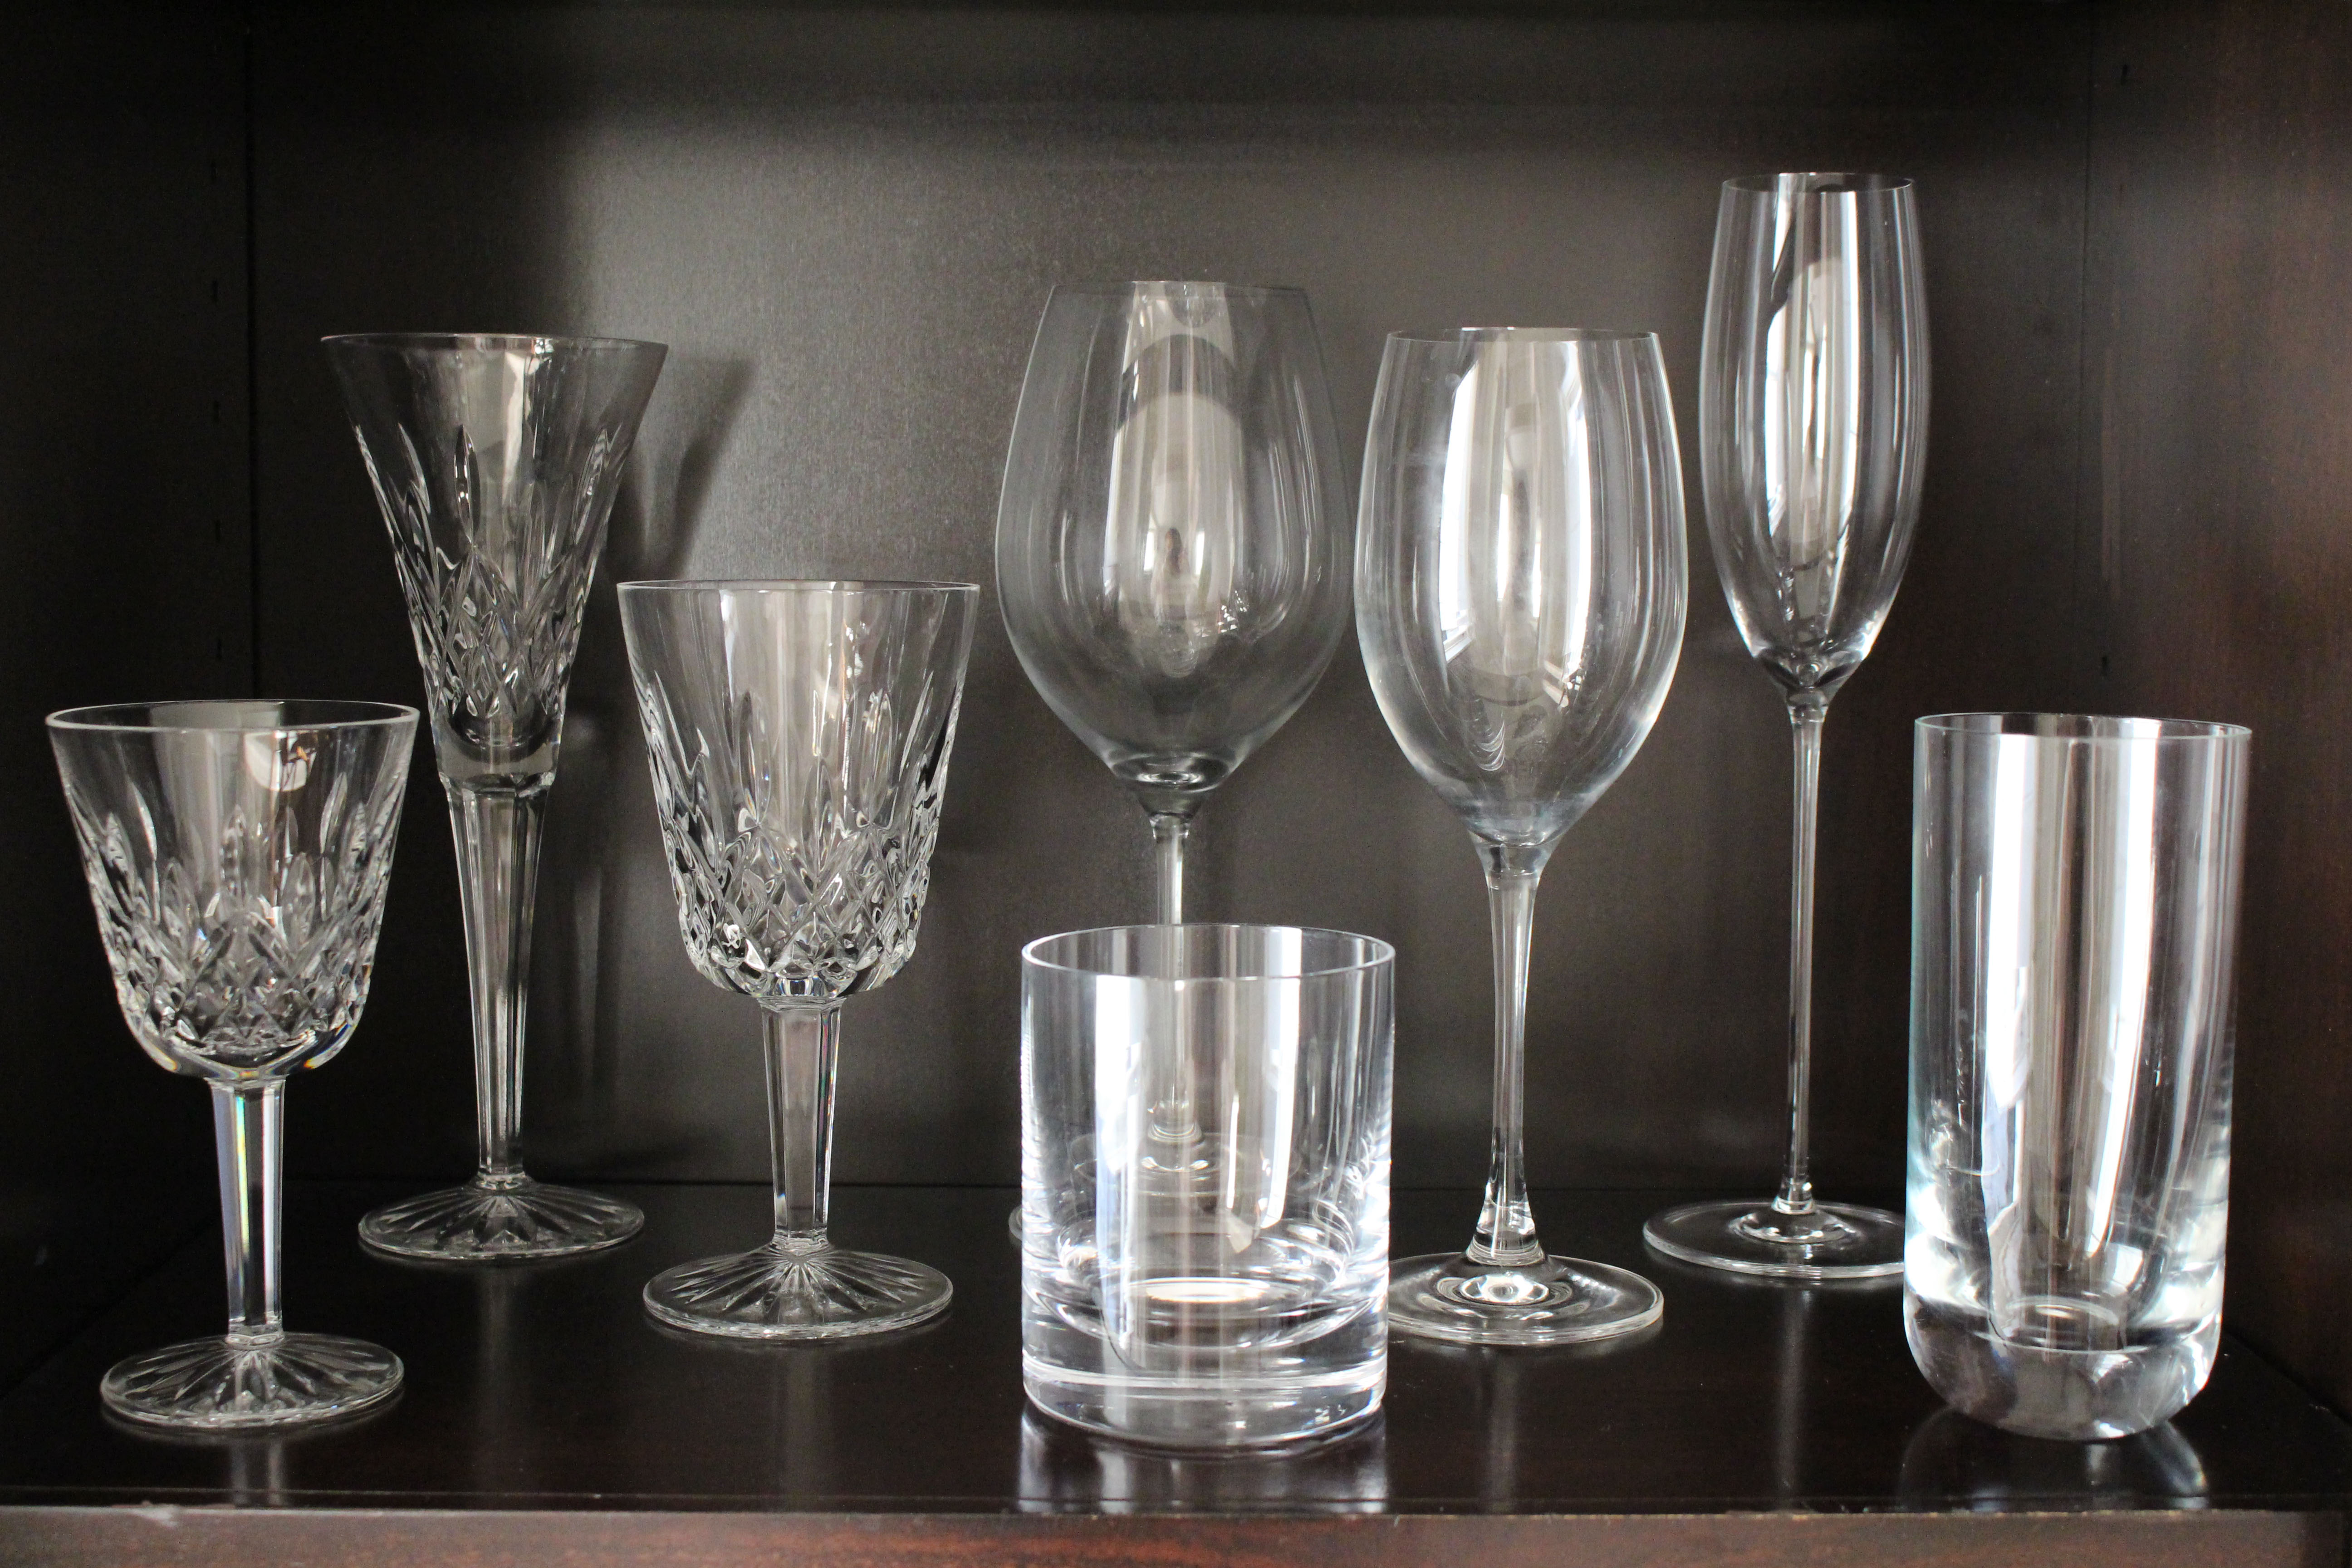Nonrec_Glass: (968, 242, 1367, 1365), (304, 285, 695, 1262), (1351, 296, 1694, 1391), (590, 537, 978, 1381), (42, 688, 448, 1438), (1899, 667, 2251, 1461), (1698, 149, 1937, 1314), (961, 900, 1430, 1487)
